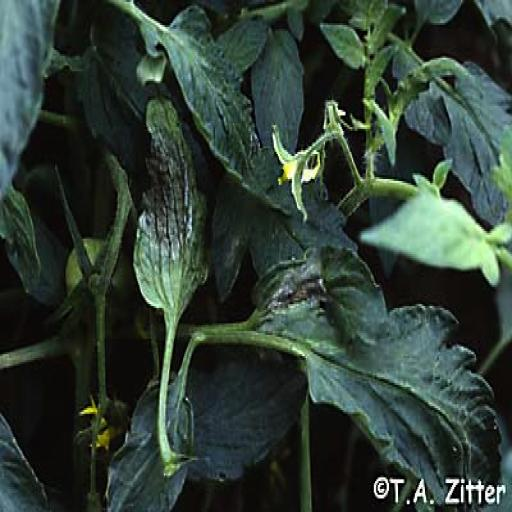Late Blight: (242, 242, 500, 476), (134, 88, 214, 350)
